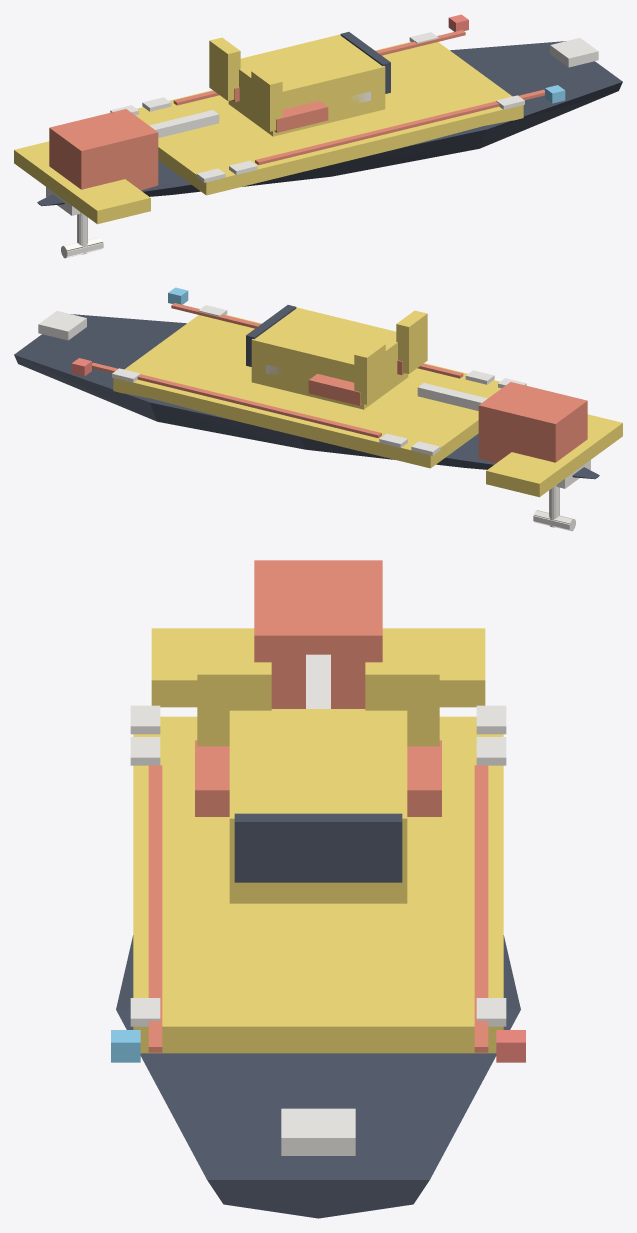
File: stormcut_hydro.glb
3 views of the same model, one above another, from view 1: azimuth 30°, elevation 25°; view 2: azimuth 150°, elevation 25°; view 3: azimuth 270°, elevation 25° (orthographic). The views are drawn at different scales.
Visible parts, largest first — view 1: 01_Upper_deck, 00_Sculpted_V_planing_hull, 02_Low_racing_cockpit, 17_High_performance_engine_cowl, 26_Stern_swim_platform, 10_Racing_pinstripe, 07_Seat_back, 05_Seat_back, 06_Sport_bucket_seat, 23_Bow_cleat, 27_Rear_aero_wing, 09_Racing_pinstripe (+2 smaller); view 2: 01_Upper_deck, 00_Sculpted_V_planing_hull, 02_Low_racing_cockpit, 17_High_performance_engine_cowl, 26_Stern_swim_platform, 09_Racing_pinstripe, 05_Seat_back, 07_Seat_back, 04_Sport_bucket_seat, 23_Bow_cleat, 27_Rear_aero_wing, 10_Racing_pinstripe (+2 smaller); view 3: 01_Upper_deck, 00_Sculpted_V_planing_hull, 02_Low_racing_cockpit, 17_High_performance_engine_cowl, 03_Aero_windscreen, 26_Stern_swim_platform, 05_Seat_back, 07_Seat_back, 09_Racing_pinstripe, 10_Racing_pinstripe, 23_Bow_cleat, 04_Sport_bucket_seat (+8 smaller).
Part boxes in pixels (x1=…): 01_Upper_deck: x1=135, y1=42, x2=523, y2=195; 00_Sculpted_V_planing_hull: x1=37, y1=41, x2=622, y2=206; 02_Low_racing_cockpit: x1=228, y1=34, x2=385, y2=136; 17_High_performance_engine_cowl: x1=49, y1=109, x2=158, y2=190; 26_Stern_swim_platform: x1=14, y1=141, x2=150, y2=224; 10_Racing_pinstripe: x1=255, y1=89, x2=544, y2=165; 07_Seat_back: x1=251, y1=68, x2=282, y2=131; 05_Seat_back: x1=209, y1=37, x2=240, y2=100; 06_Sport_bucket_seat: x1=274, y1=101, x2=328, y2=132; 23_Bow_cleat: x1=550, y1=38, x2=598, y2=67; 27_Rear_aero_wing: x1=149, y1=110, x2=219, y2=137; 09_Racing_pinstripe: x1=173, y1=30, x2=465, y2=105; 01_Upper_deck: x1=113, y1=315, x2=501, y2=468; 00_Sculpted_V_planing_hull: x1=14, y1=314, x2=599, y2=479; 02_Low_racing_cockpit: x1=251, y1=307, x2=408, y2=409; 17_High_performance_engine_cowl: x1=478, y1=382, x2=587, y2=463; 26_Stern_swim_platform: x1=486, y1=414, x2=622, y2=497; 09_Racing_pinstripe: x1=92, y1=362, x2=381, y2=438; 05_Seat_back: x1=354, y1=341, x2=385, y2=404; 07_Seat_back: x1=396, y1=310, x2=427, y2=373; 04_Sport_bucket_seat: x1=308, y1=374, x2=362, y2=405; 23_Bow_cleat: x1=38, y1=311, x2=86, y2=340; 27_Rear_aero_wing: x1=417, y1=383, x2=487, y2=410; 10_Racing_pinstripe: x1=171, y1=303, x2=463, y2=378; 01_Upper_deck: x1=133, y1=716, x2=503, y2=1053; 00_Sculpted_V_planing_hull: x1=116, y1=935, x2=520, y2=1218; 02_Low_racing_cockpit: x1=229, y1=709, x2=407, y2=903; 17_High_performance_engine_cowl: x1=254, y1=560, x2=382, y2=708; 03_Aero_windscreen: x1=234, y1=813, x2=402, y2=882; 26_Stern_swim_platform: x1=151, y1=628, x2=485, y2=707; 05_Seat_back: x1=365, y1=662, x2=439, y2=746; 07_Seat_back: x1=197, y1=662, x2=271, y2=746; 09_Racing_pinstripe: x1=474, y1=765, x2=488, y2=1052; 10_Racing_pinstripe: x1=148, y1=765, x2=162, y2=1052; 23_Bow_cleat: x1=281, y1=1108, x2=355, y2=1155; 04_Sport_bucket_seat: x1=407, y1=740, x2=441, y2=816.
Size of the model in its own units: 5.19 by 1.36 by 1.68.
